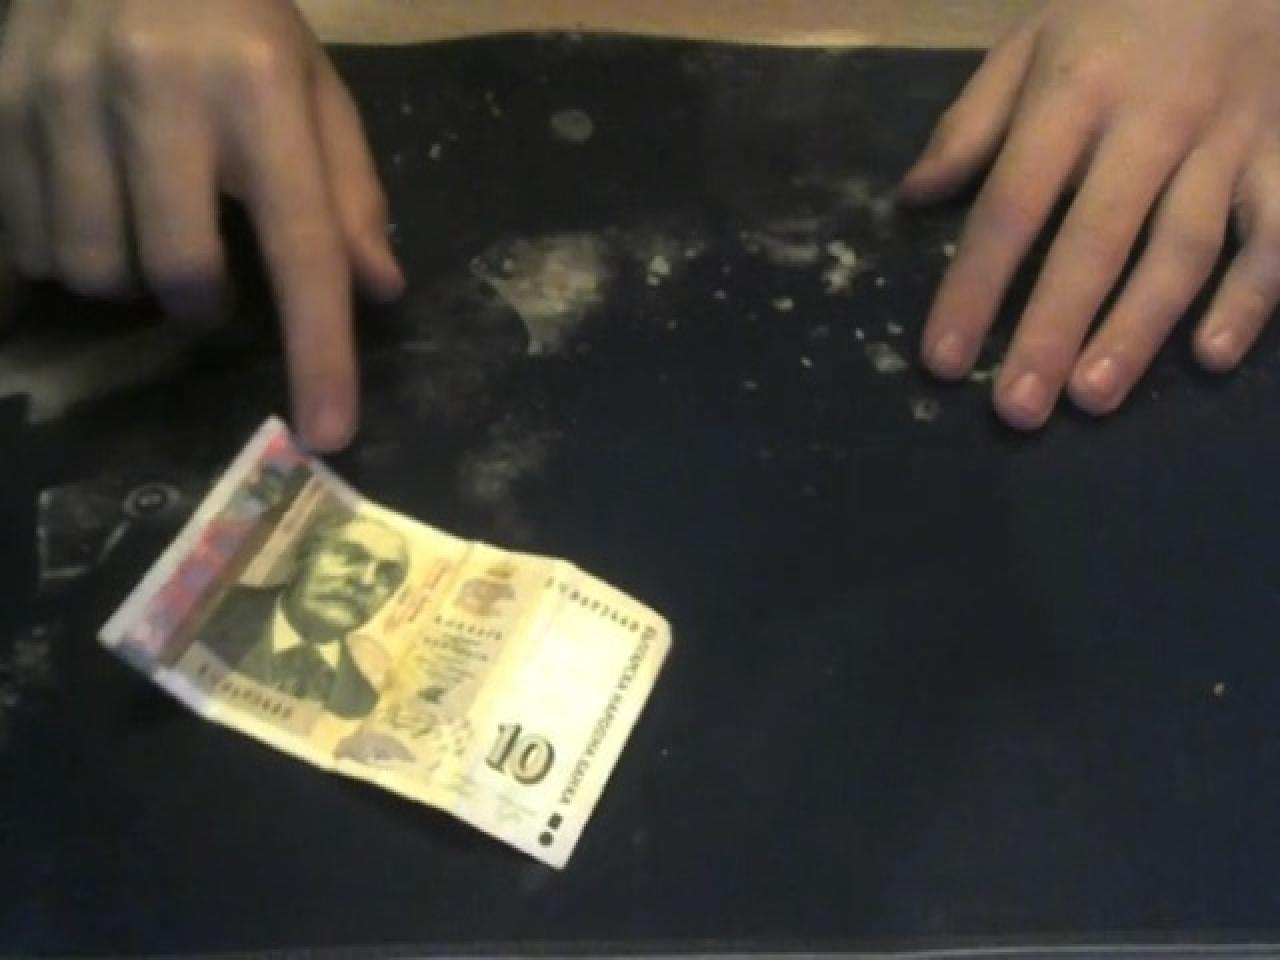10leva: (190, 504, 413, 739), (476, 714, 567, 801)
